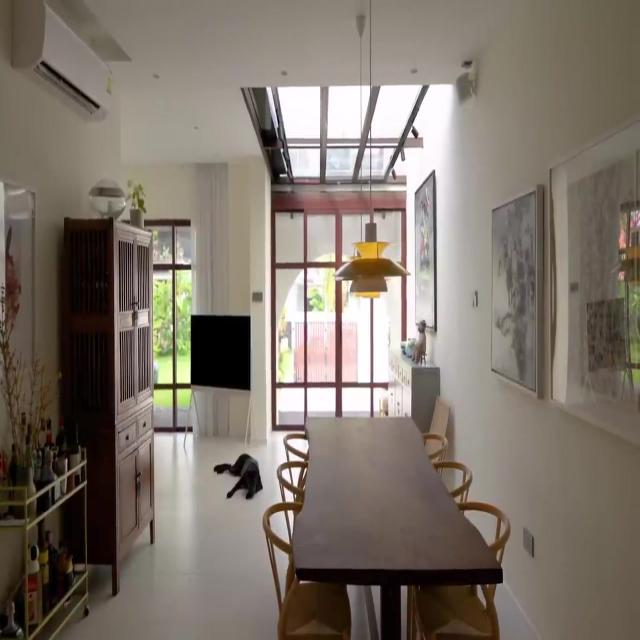obstacle: (291, 414, 503, 638), (60, 216, 156, 596), (0, 445, 89, 639)
